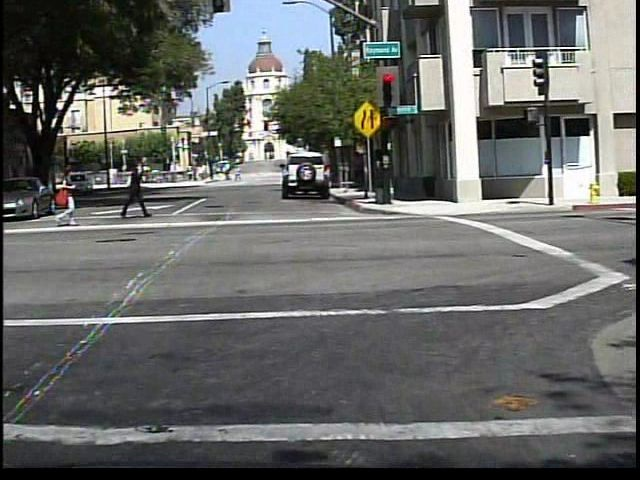person: (114, 157, 152, 222), (46, 161, 81, 229), (230, 165, 241, 185), (221, 166, 231, 185)
